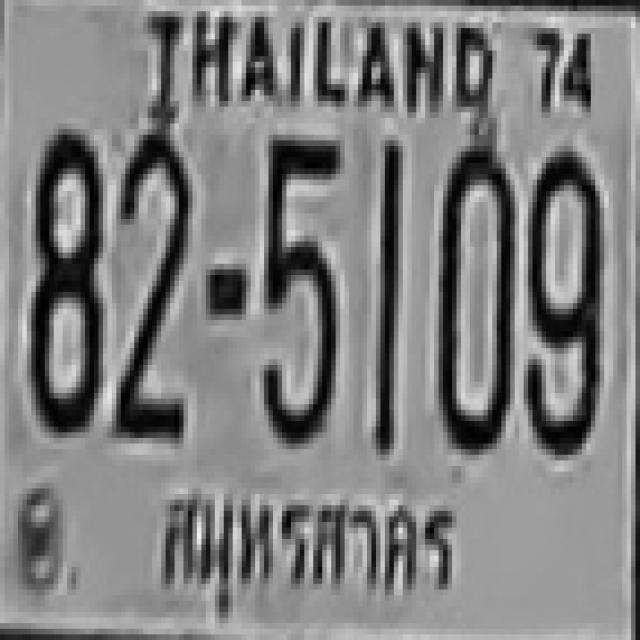0: (434, 140, 515, 376)
2: (114, 225, 186, 432)
8: (32, 126, 108, 430)
9: (519, 154, 600, 452)
SamutSakhon: (148, 476, 468, 619)
